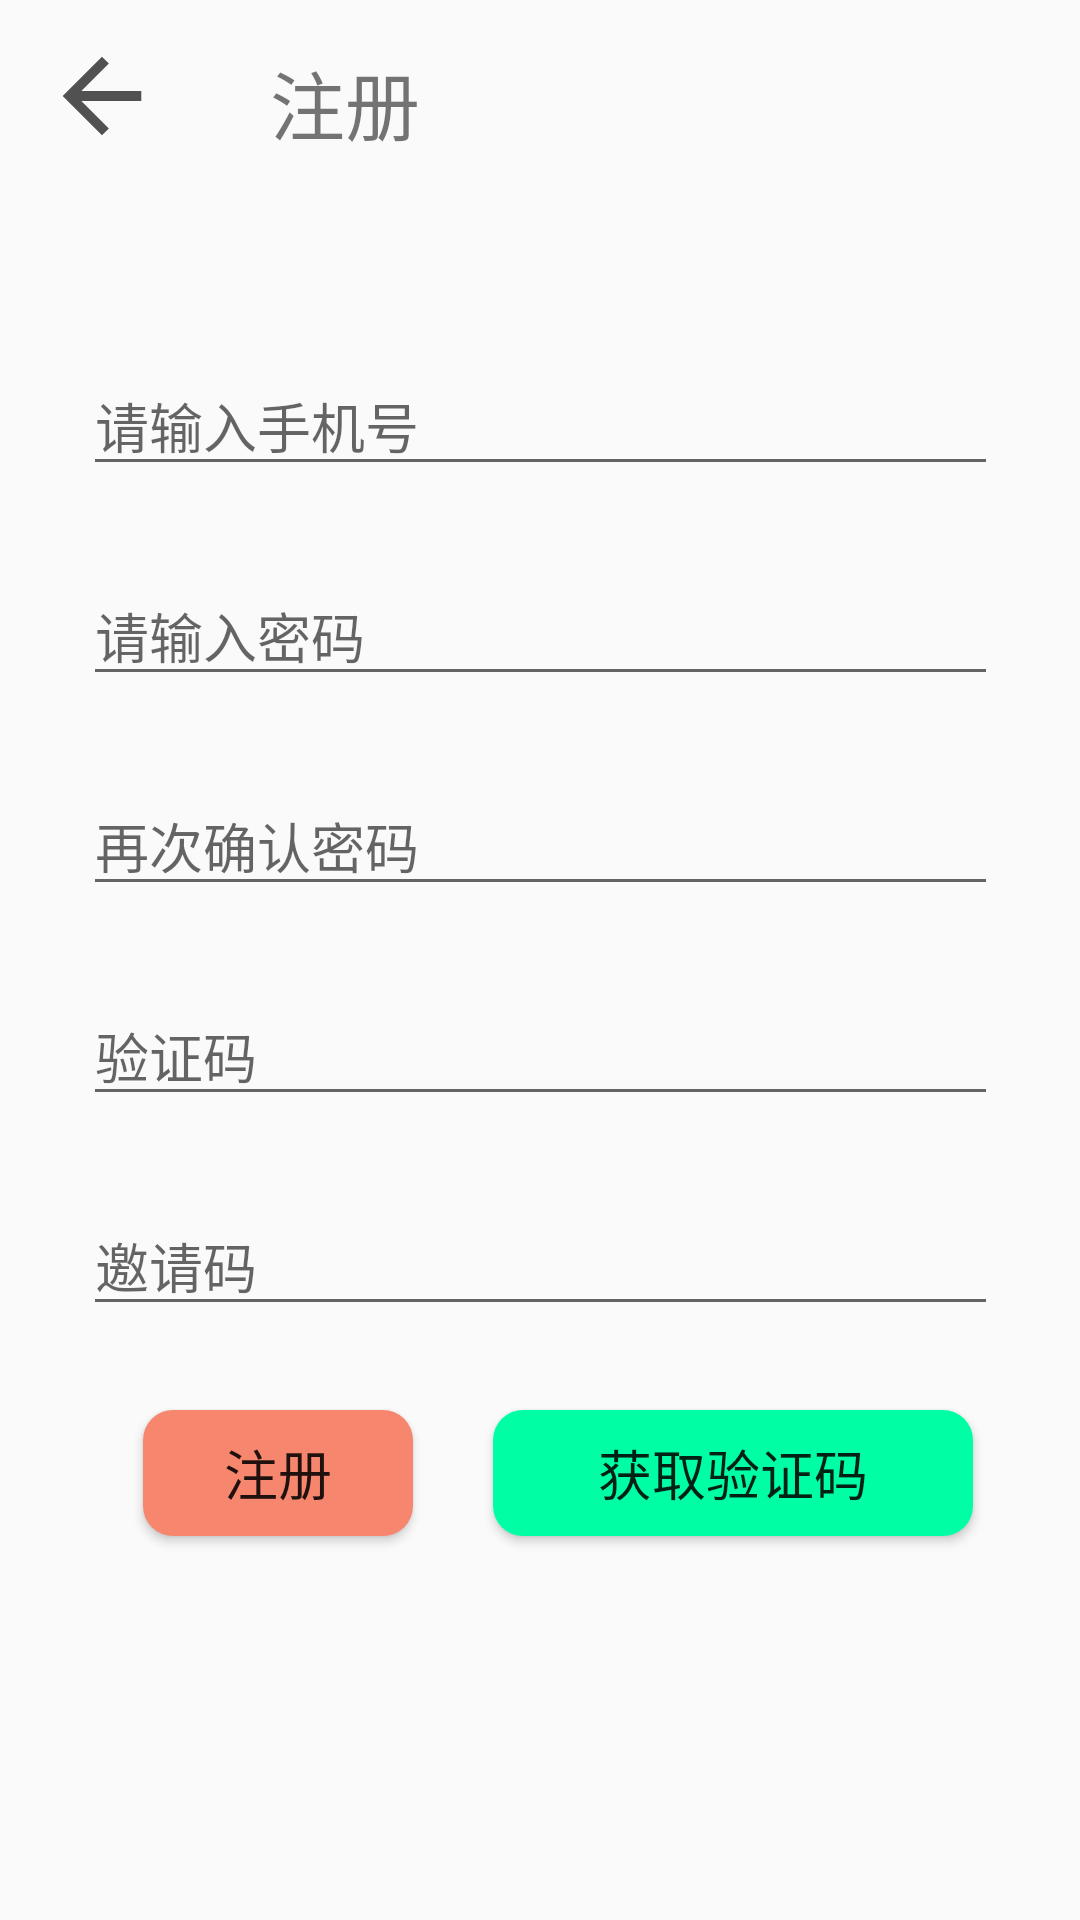

Locate icon controls on the screen. Image size 1080×1920, boxes as BBox(x1, y1, x2, y2).
back: BBox(63, 57, 142, 135)
